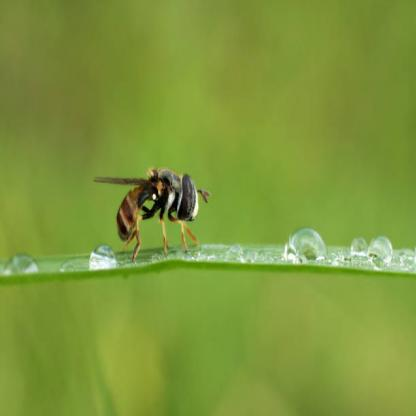sawfly: (92, 163, 218, 265)
